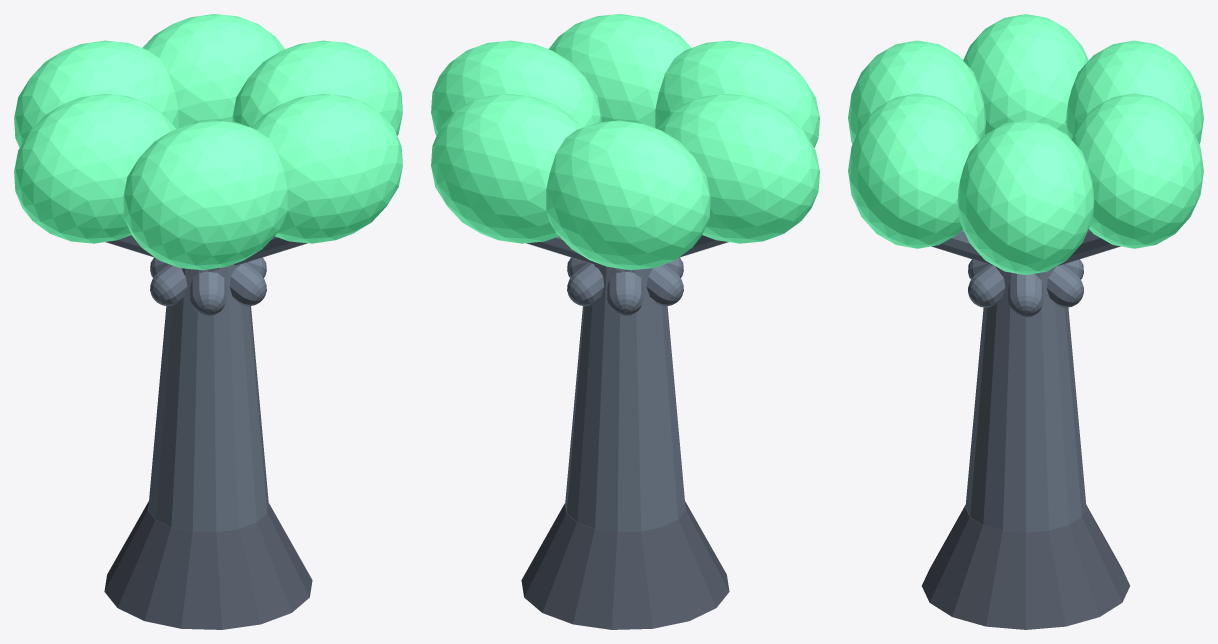
File: AXM-MACHINE-TREE-001.glb
3 views of the same model, side by side, from view 1: azimuth 30°, elevation 25°; view 2: azimuth 150°, elevation 25°; view 3: azimuth 270°, elevation 25° (orthographic).
Parts seen in each view (by area): view 1: trunk, crown__r04, root, crown__r03, crown__r05, crown__r01, crown__r00, crown__r02, branch__r01, branch__r02, branch__r00, branch__r05 (+1 smaller); view 2: trunk, crown__r02, root, crown__r03, crown__r01, crown__r05, crown__r00, crown__r04, branch__r05, branch__r04, branch__r00, branch__r01 (+1 smaller); view 3: trunk, root, crown__r00, crown__r01, crown__r05, crown__r03, crown__r02, crown__r04, branch__r03, branch__r02, branch__r04, branch__r01 (+1 smaller).
Part boxes in pixels (box(x1,y1,x2,y2)): trunk: box(148, 262, 268, 532); crown__r04: box(123, 120, 287, 270); root: box(104, 501, 312, 629); crown__r03: box(14, 94, 175, 243); crown__r05: box(251, 94, 402, 243); crown__r01: box(143, 14, 284, 127); crown__r00: box(232, 40, 402, 135); crown__r02: box(14, 40, 178, 147); branch__r01: box(190, 271, 226, 315); branch__r02: box(229, 263, 266, 306); branch__r00: box(150, 264, 187, 306); branch__r05: box(150, 236, 307, 277); trunk: box(565, 262, 685, 532); crown__r02: box(546, 120, 710, 270); root: box(521, 501, 729, 629); crown__r03: box(658, 94, 819, 243); crown__r01: box(431, 94, 582, 243); crown__r05: box(549, 14, 690, 127); crown__r00: box(431, 40, 601, 135); crown__r04: box(655, 40, 819, 147); branch__r05: box(607, 271, 643, 315); branch__r04: box(567, 263, 604, 306); branch__r00: box(646, 264, 683, 306); branch__r01: box(526, 236, 683, 277); trunk: box(965, 264, 1086, 532); root: box(922, 505, 1129, 629); crown__r00: box(957, 120, 1094, 275); crown__r01: box(1071, 93, 1203, 248); crown__r05: box(848, 93, 980, 248); crown__r03: box(963, 14, 1088, 134); crown__r02: box(1066, 40, 1203, 144); crown__r04: box(848, 40, 985, 144); branch__r03: box(1008, 274, 1043, 317); branch__r02: box(968, 264, 1005, 307); branch__r04: box(1046, 264, 1083, 307); branch__r01: box(968, 229, 1120, 279).
Bounding box in the file's own units: 2.48 × 3.23 × 2.05.
